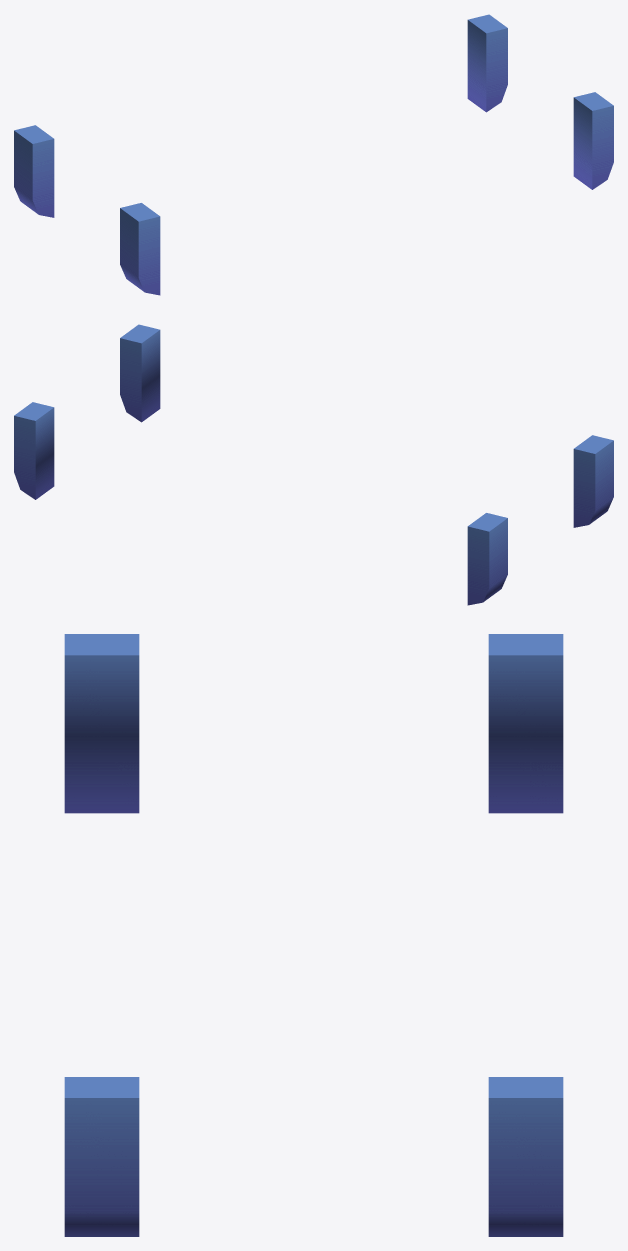
Rendered from supports-wide-clamp.glb.
3 renders of one model, top to bottom at view 1: azimuth 30°, elevation 25°; view 2: azimuth 150°, elevation 25°; view 3: azimuth 270°, elevation 25°, orthographic. The views are drawn at different scales.
Visible parts, largest first — view 1: supports-wide-clamp; view 2: supports-wide-clamp; view 3: supports-wide-clamp.
Boxes of the visible parts, x1,y1,x2,y2 form: supports-wide-clamp: (14,14,613,295); supports-wide-clamp: (14,324,613,605); supports-wide-clamp: (64,634,563,1236).
Bounding box in the file's own units: 2.2 × 0.35 × 1.
Materials: 1 (1 with a texture image).
